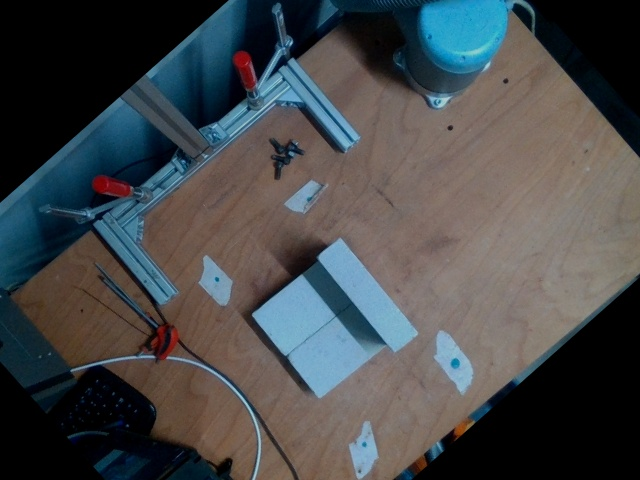brick-side: (316, 239, 418, 353)
